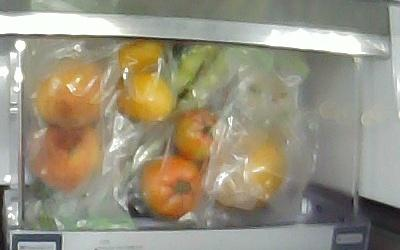peach_vinyl: (34, 61, 108, 130), (31, 122, 99, 188)
pear_vinyl: (214, 132, 287, 208)
tangerine_vinyl: (118, 72, 171, 125), (118, 38, 165, 78)
tomato_vinyl: (139, 156, 201, 219), (175, 107, 232, 162)
